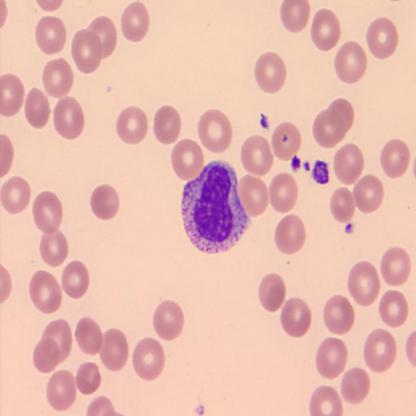Metamyelocyte: (178, 156, 250, 257)
